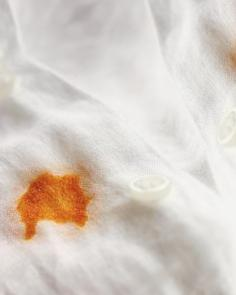stain: (10, 170, 99, 242), (217, 37, 236, 80)
